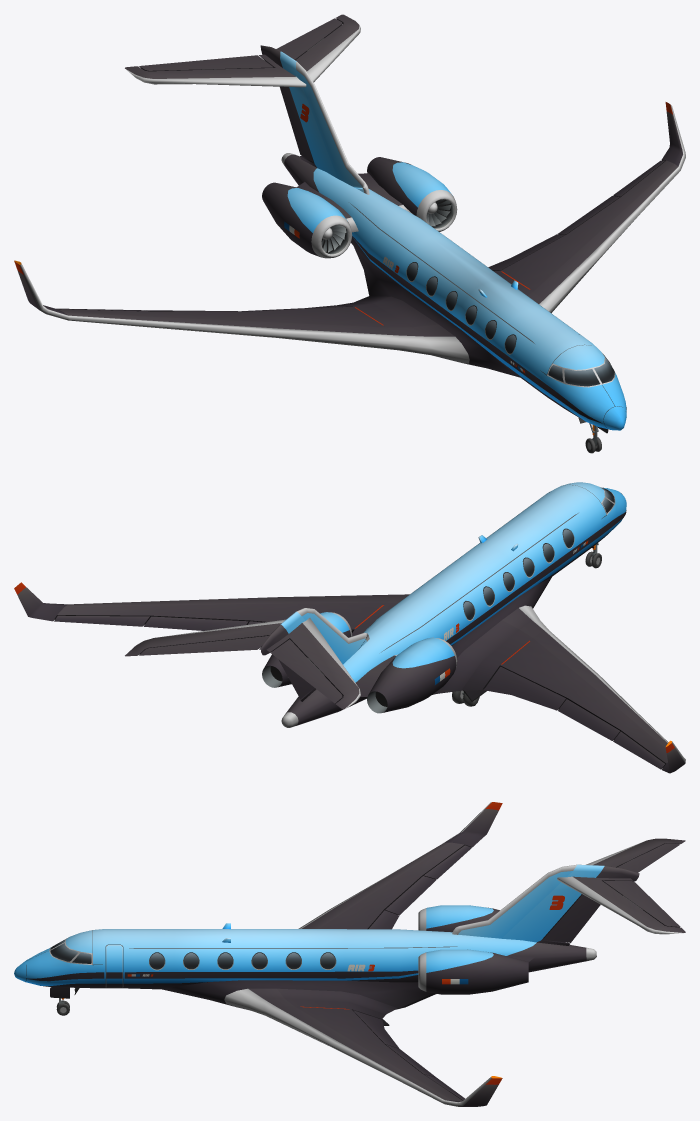
3 renders of one model, top to bottom at view 1: azimuth 30°, elevation 25°; view 2: azimuth 150°, elevation 25°; view 3: azimuth 270°, elevation 25°, orthographic. The views are drawn at different scales.
Visible parts, largest first — view 1: Fuselage_Plane_2B, Elevator_2B_R.R, Elevator_2B_R.L, Rudder_2B; view 2: Fuselage_Plane_2B, Flap_2B_F.R2, Elevator_2B_R.R, Elevator_2B_R.L, Flap_2B_F.L1, Flap_2B_F.R1, Aileron_2B_F.L, Aileron_2B_F.R; view 3: Fuselage_Plane_2B, Rudder_2B, Elevator_2B_R.L, Flap_2B_F.R1, Elevator_2B_R.R, Livery_2B, Flap_2B_F.L2, Aileron_2B_F.R.
Boxes of the visible parts, x1=… form: Fuselage_Plane_2B: x1=14, y1=14, x2=685, y2=430; Elevator_2B_R.R: x1=139, y1=55, x2=273, y2=71; Elevator_2B_R.L: x1=276, y1=18, x2=342, y2=60; Rudder_2B: x1=280, y1=86, x2=313, y2=162; Fuselage_Plane_2B: x1=14, y1=482, x2=685, y2=773; Flap_2B_F.R2: x1=484, y1=666, x2=566, y2=710; Elevator_2B_R.R: x1=271, y1=639, x2=342, y2=703; Elevator_2B_R.L: x1=139, y1=636, x2=268, y2=655; Flap_2B_F.L1: x1=143, y1=616, x2=248, y2=630; Flap_2B_F.R1: x1=558, y1=699, x2=620, y2=740; Aileron_2B_F.L: x1=54, y1=615, x2=149, y2=626; Aileron_2B_F.R: x1=613, y1=731, x2=665, y2=769; Fuselage_Plane_2B: x1=14, y1=802, x2=685, y2=1106; Rudder_2B: x1=542, y1=894, x2=600, y2=942; Elevator_2B_R.L: x1=603, y1=880, x2=680, y2=927; Flap_2B_F.R1: x1=385, y1=876, x2=436, y2=915; Elevator_2B_R.R: x1=617, y1=843, x2=680, y2=872; Livery_2B: x1=127, y1=895, x2=564, y2=984; Flap_2B_F.L2: x1=352, y1=1010, x2=399, y2=1048; Aileron_2B_F.R: x1=423, y1=845, x2=471, y2=879.
Size of the model in its own units: 25.76 by 6.52 by 26.58.
